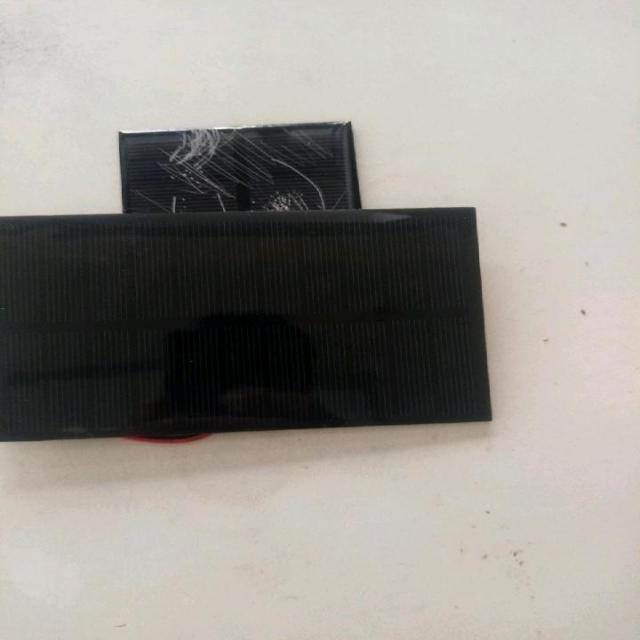faulty: (116, 123, 371, 210)
no faulty: (0, 218, 480, 437)
